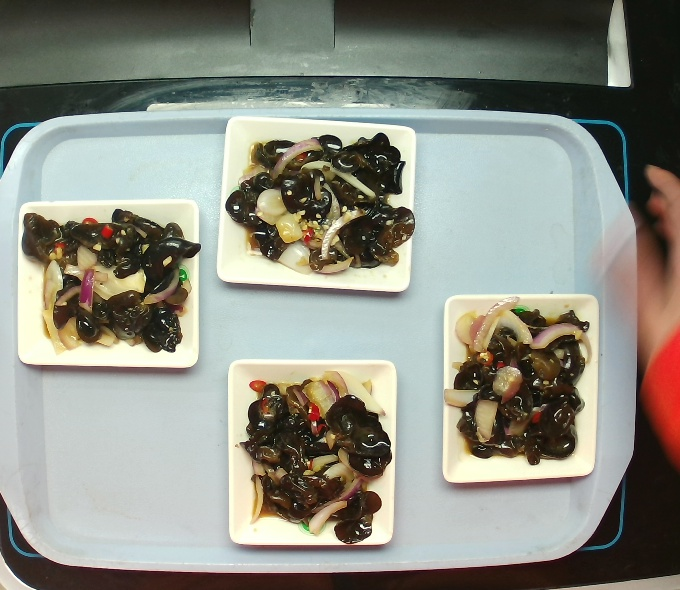wcq-LiangBanMuEr: (216, 128, 426, 278), (223, 372, 408, 540), (444, 299, 593, 476), (28, 204, 189, 357)
